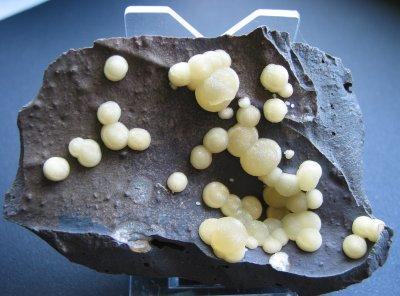calcite: (190, 97, 324, 272), (190, 97, 324, 270), (169, 51, 240, 119), (97, 101, 151, 151), (97, 101, 150, 151), (261, 64, 294, 123), (344, 217, 386, 260), (344, 217, 385, 260), (68, 139, 102, 168), (104, 55, 128, 81), (44, 157, 69, 181)
